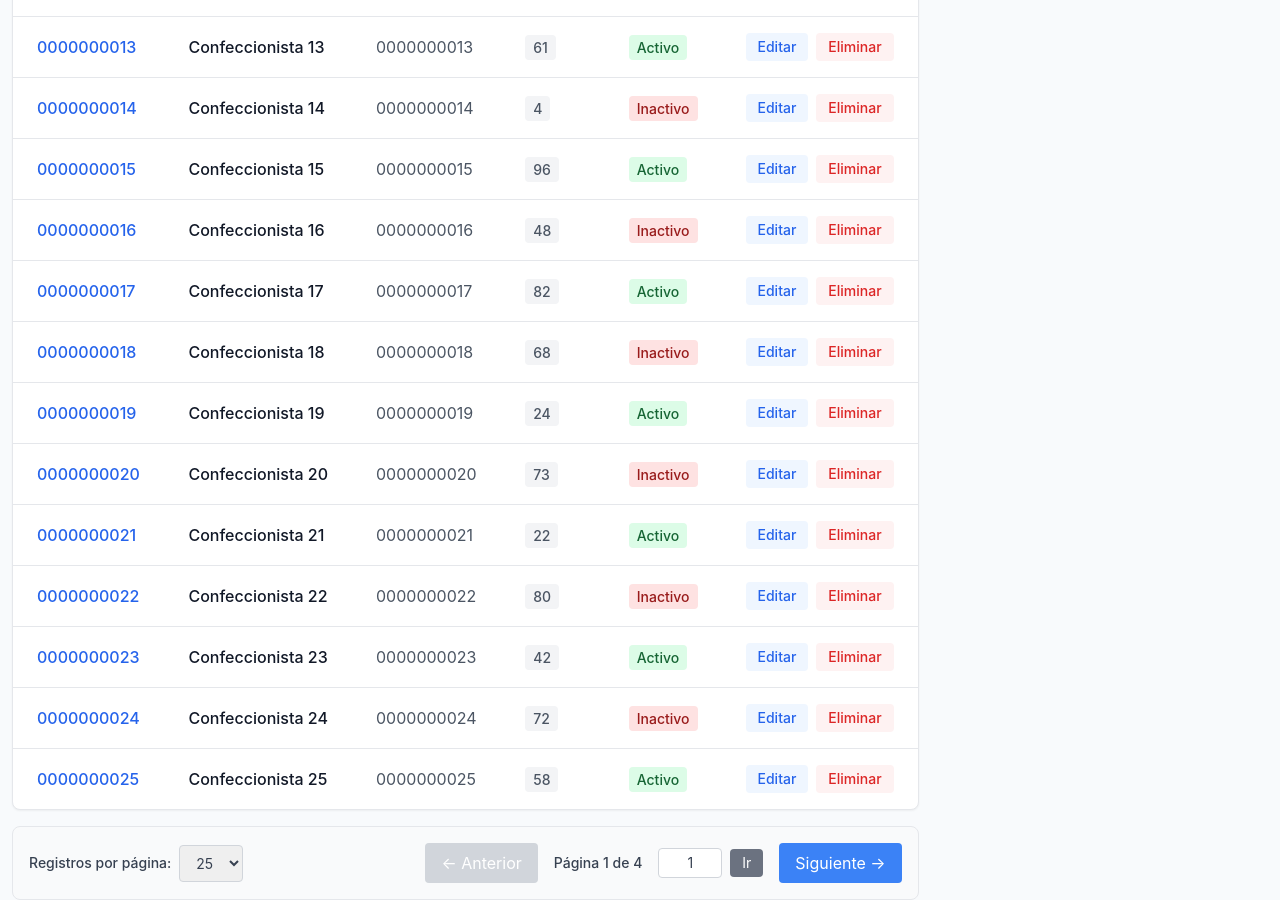
ConfeccionistasModule Unit Tests › Search/Filters › should reset to page 1 when searching
The width and height of the screenshot is (1280, 900).
(page scrolled)
Click the button "Siguiente →" at (840, 863), box [779,843,902,883]
(page scrolled)
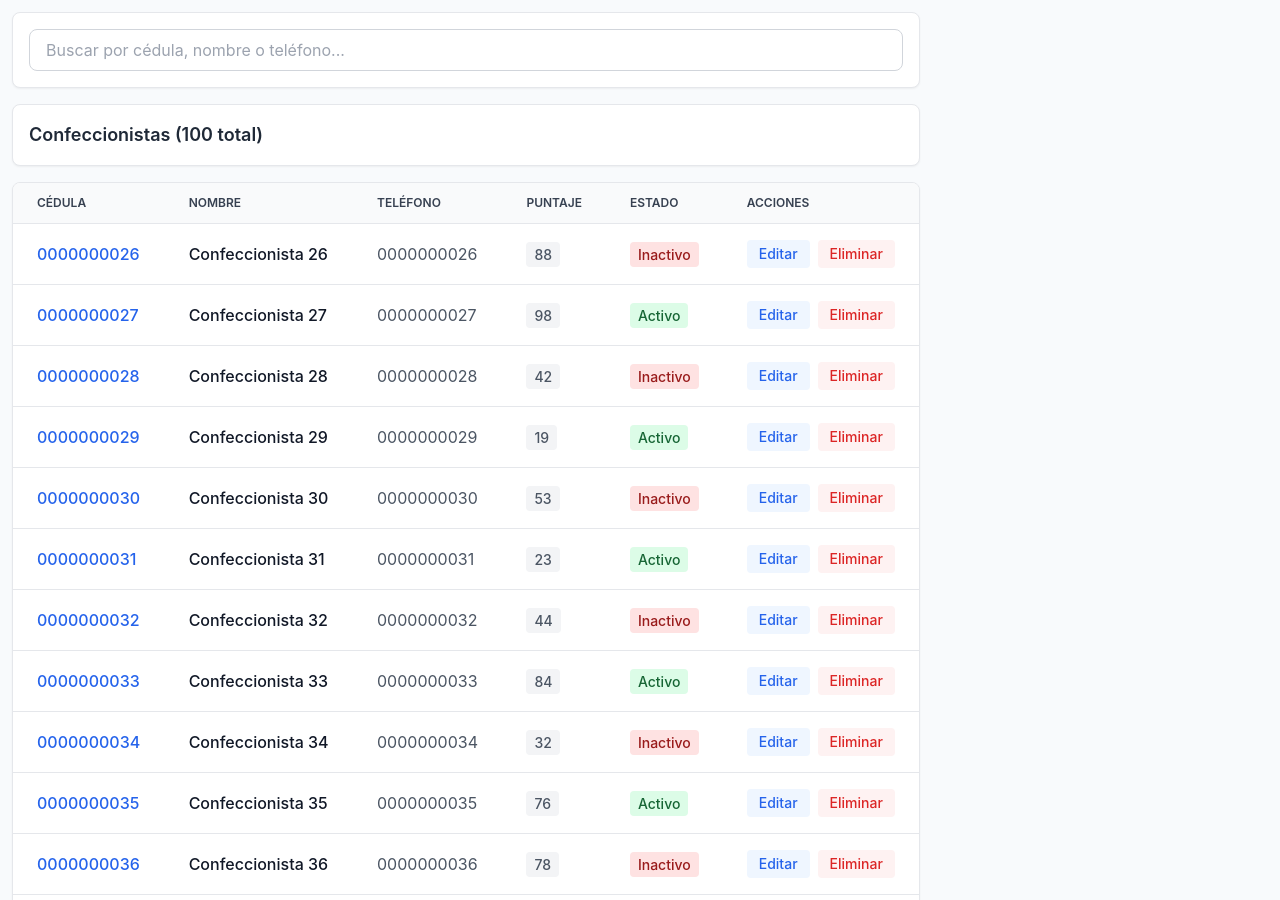
Type "Confeccionista 1" into the field with placeholder "Buscar por cédula, nombre o teléfono..." at (466, 50), box [29,29,903,71]
(page scrolled)
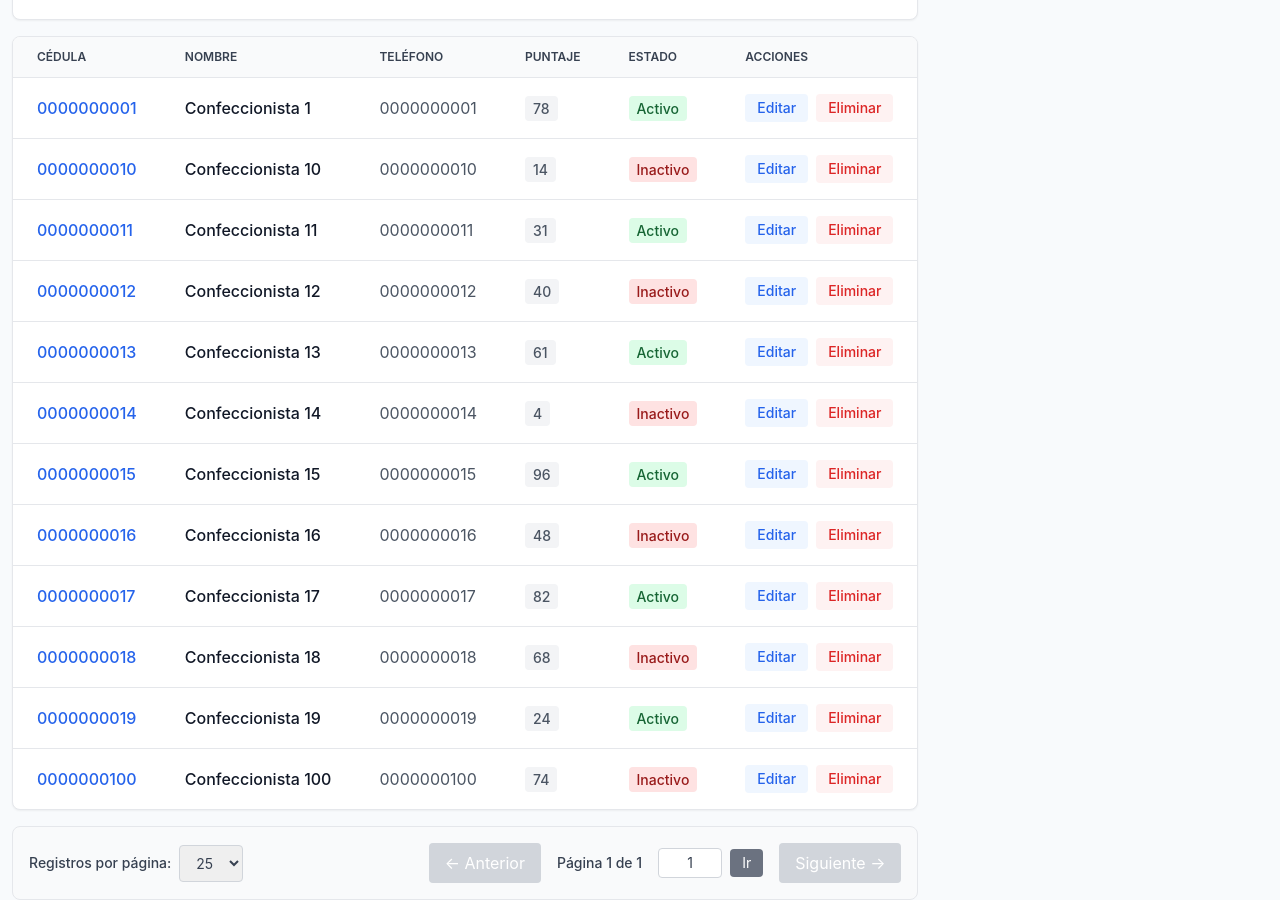
Check: the text "Página 1 de 1" is shown, box [557,853,642,873]
